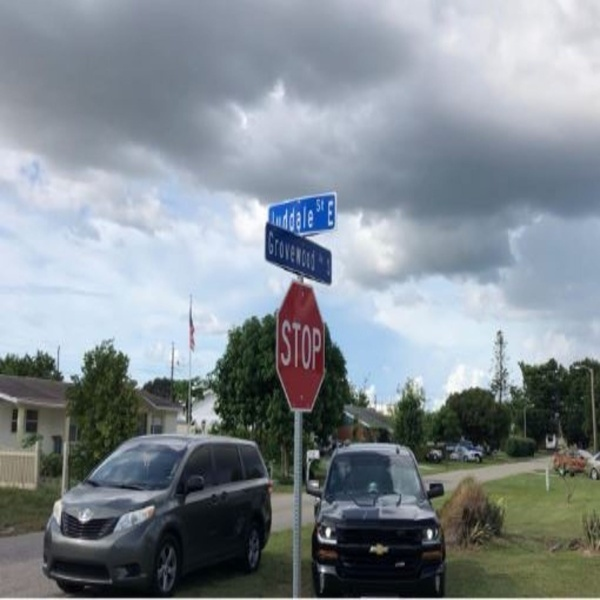stop: (275, 281, 332, 410)
